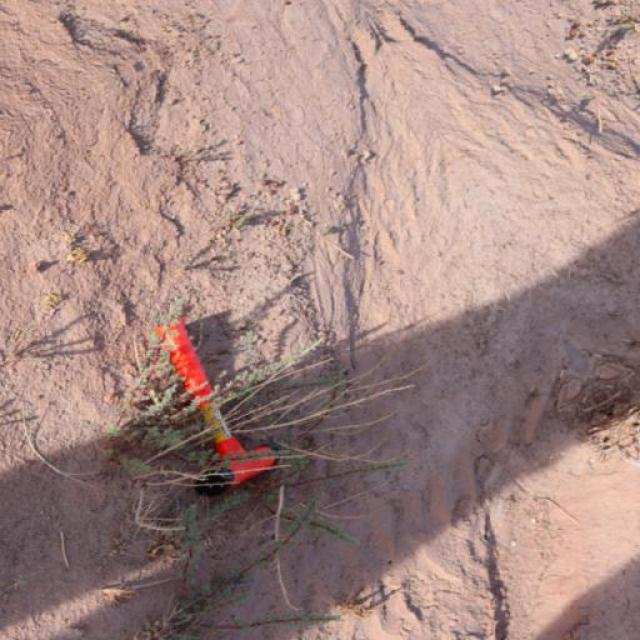mallet: (152, 315, 282, 496)
